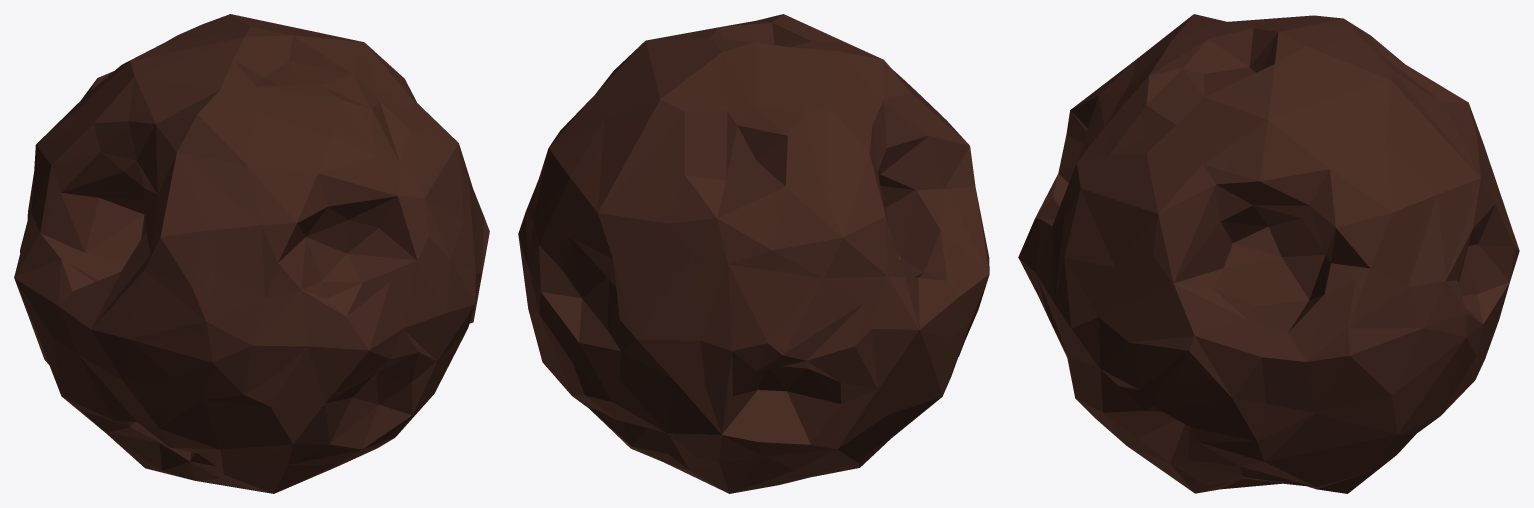
Rendered from Projectile_PlasmaRain.fbx.
3 renders of one model, left to right at view 1: azimuth 30°, elevation 25°; view 2: azimuth 150°, elevation 25°; view 3: azimuth 270°, elevation 25°, orthographic. The views are drawn at different scales.
Visible parts, largest first — view 1: Icosphere; view 2: Icosphere; view 3: Icosphere.
Boxes of the visible parts, left/top/right/bottom form: Icosphere: left=14, top=14, right=489, bottom=493; Icosphere: left=518, top=14, right=989, bottom=493; Icosphere: left=1018, top=14, right=1519, bottom=493.
Size of the model in its own units: 38.15 by 39.66 by 40.16.
